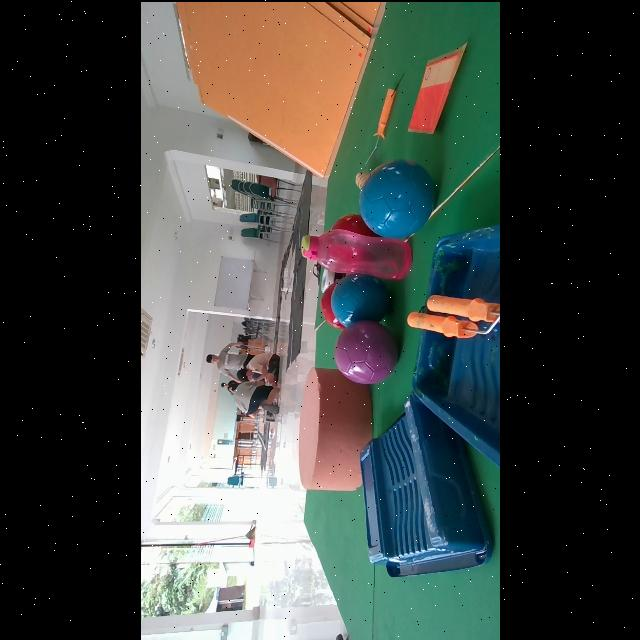B: (330, 271, 389, 325)
P: (333, 319, 398, 383)
